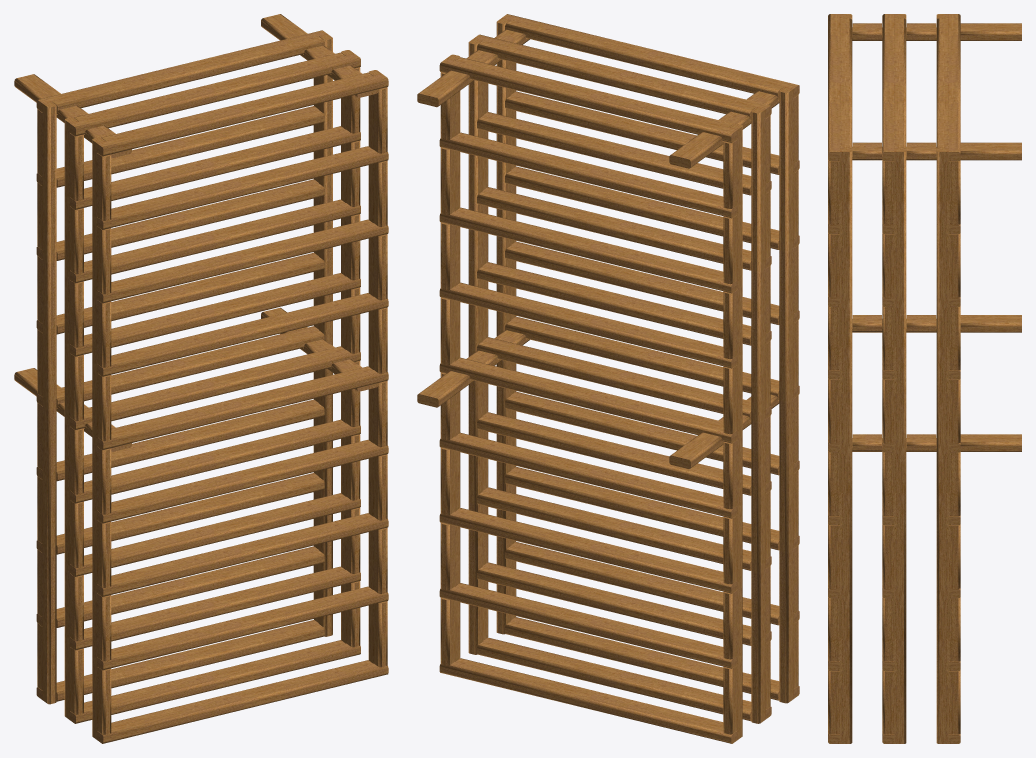
Rendered from VCKA0070.glb.
3 renders of one model, left to right at view 1: azimuth 30°, elevation 25°; view 2: azimuth 150°, elevation 25°; view 3: azimuth 270°, elevation 25°, orthographic. The views are drawn at different scales.
Parts seen in each view (by area): view 1: V Bar Burgundy 32.005; view 2: V Bar Burgundy 32.005; view 3: V Bar Burgundy 32.005.
Part boxes in pixels (box(x1,y1,x2,y2)): V Bar Burgundy 32.005: box(14, 14, 388, 743); V Bar Burgundy 32.005: box(417, 14, 799, 743); V Bar Burgundy 32.005: box(828, 14, 1021, 743).
Size of the model in its own units: 0.406 by 0.812 by 0.241.
Materials: 2 (2 with a texture image).
